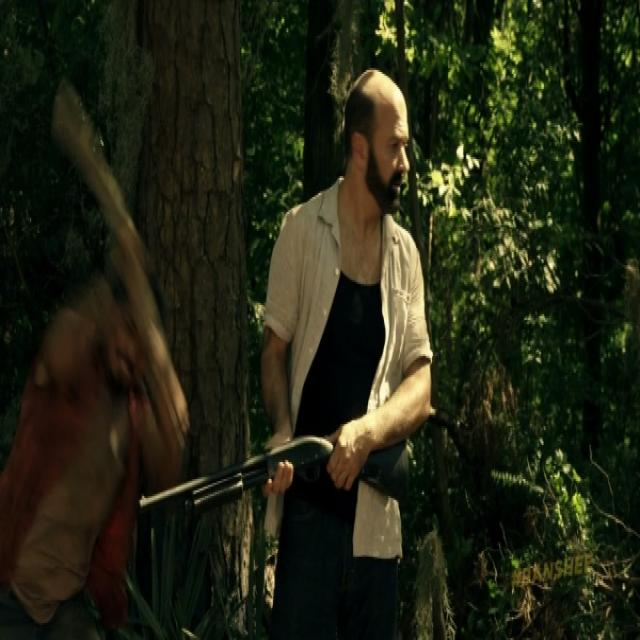rifle: (132, 428, 420, 535)
